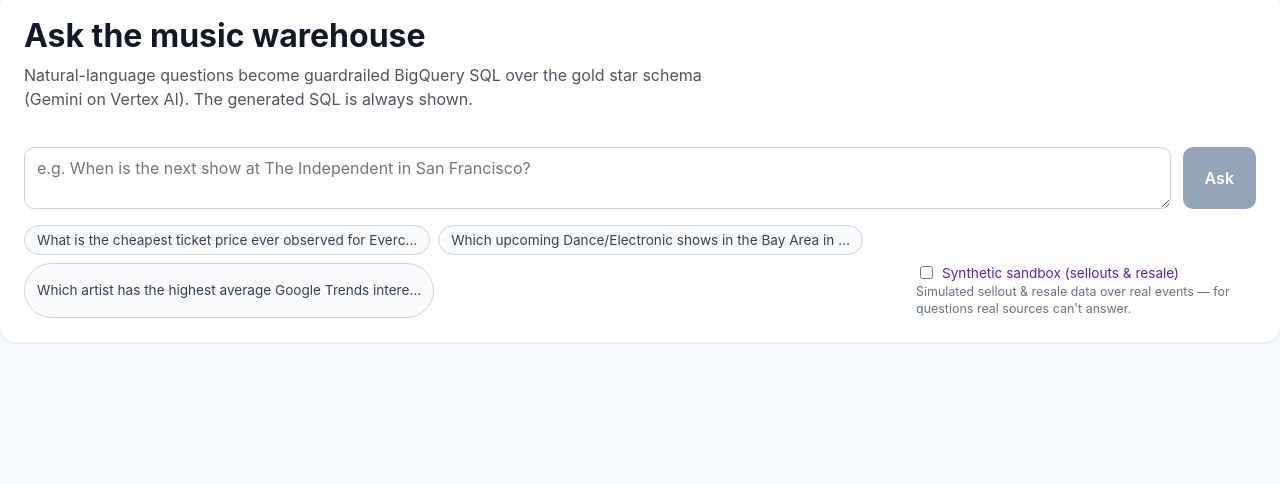
Test case: AskPanel › renders a refused outcome as a first-class badge, not an error
This screenshot has width=1280, height=484.
Step 1. Type "Write me a fibonacci function" into the text box named "Question" → (597, 178), box [24,147,1171,209]
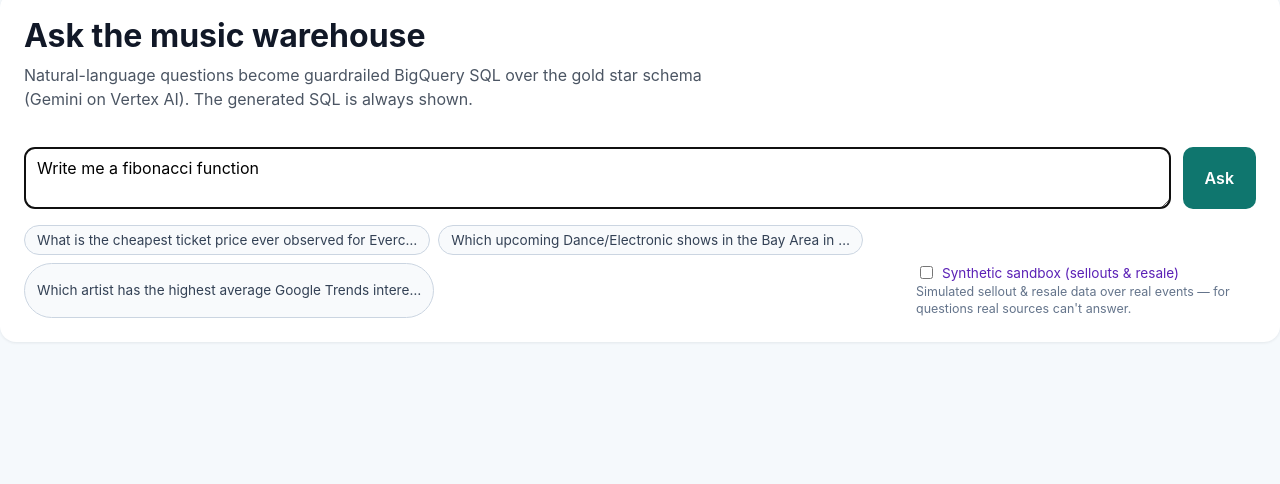
Step 2. Click the button "Ask" → (1219, 178), box [1183,147,1256,209]
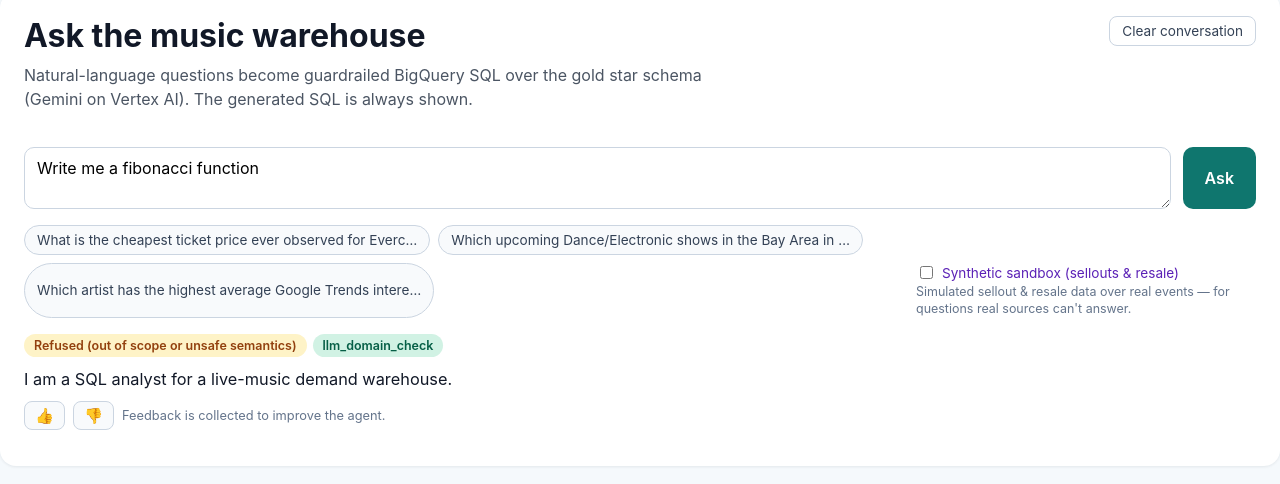
expect the text "Refused (out of scope or unsafe semantics)" is shown: met, box [24,334,307,357]
expect the text "I am a SQL analyst for a live-music demand warehouse." is shown: met, box [24,369,452,389]
